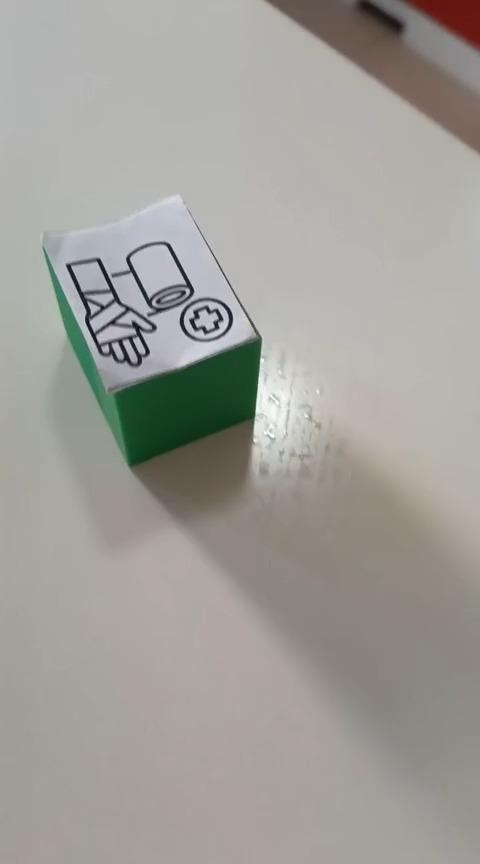Bandages: (40, 192, 263, 468)
